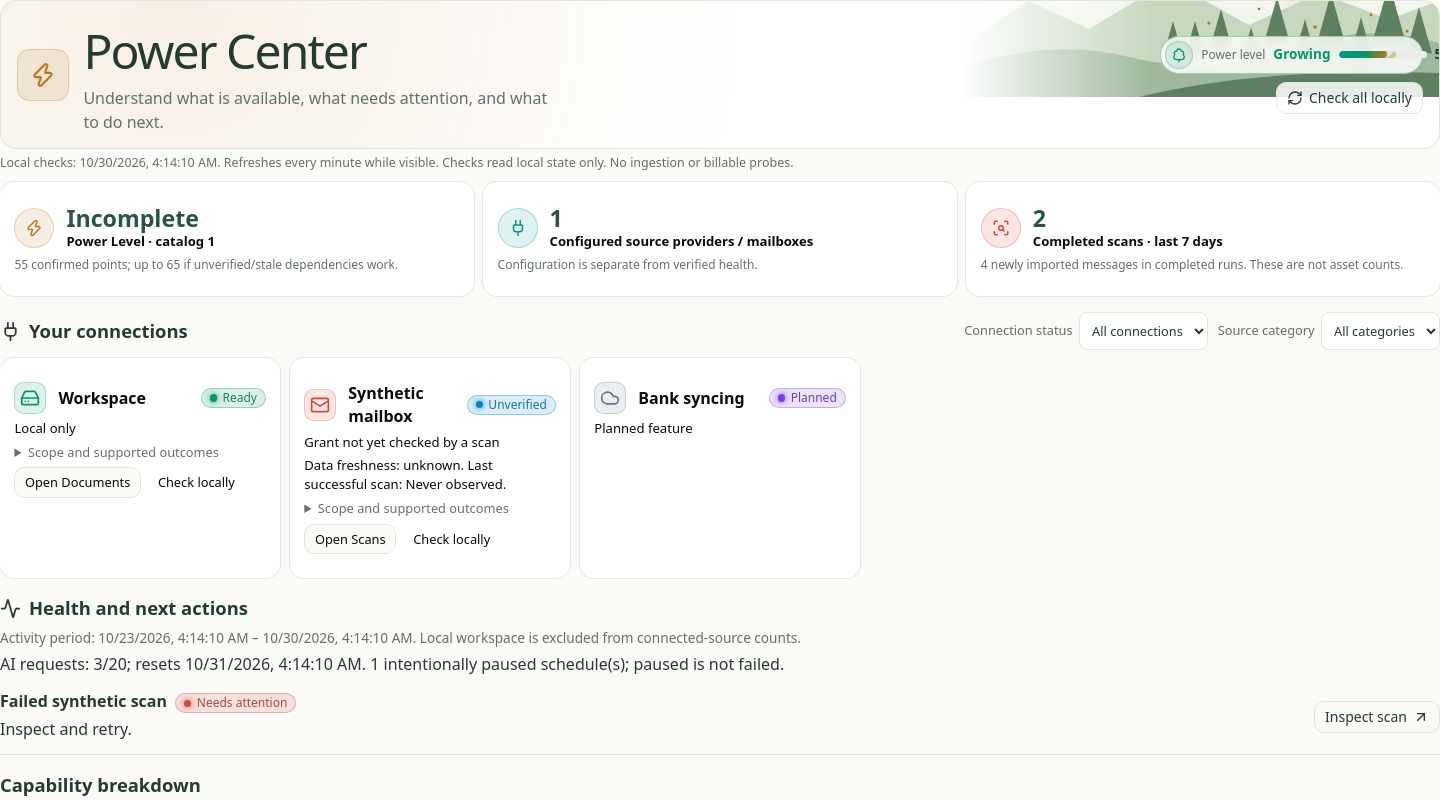
Scenario: filters source cards and refreshes observations without claiming provider verification
Expected: the text "Incomplete" is shown, [66,202,199,234]
Select "Email" in the dropdown labelled "Source category" at (1380, 331), box [1321,312,1439,350]
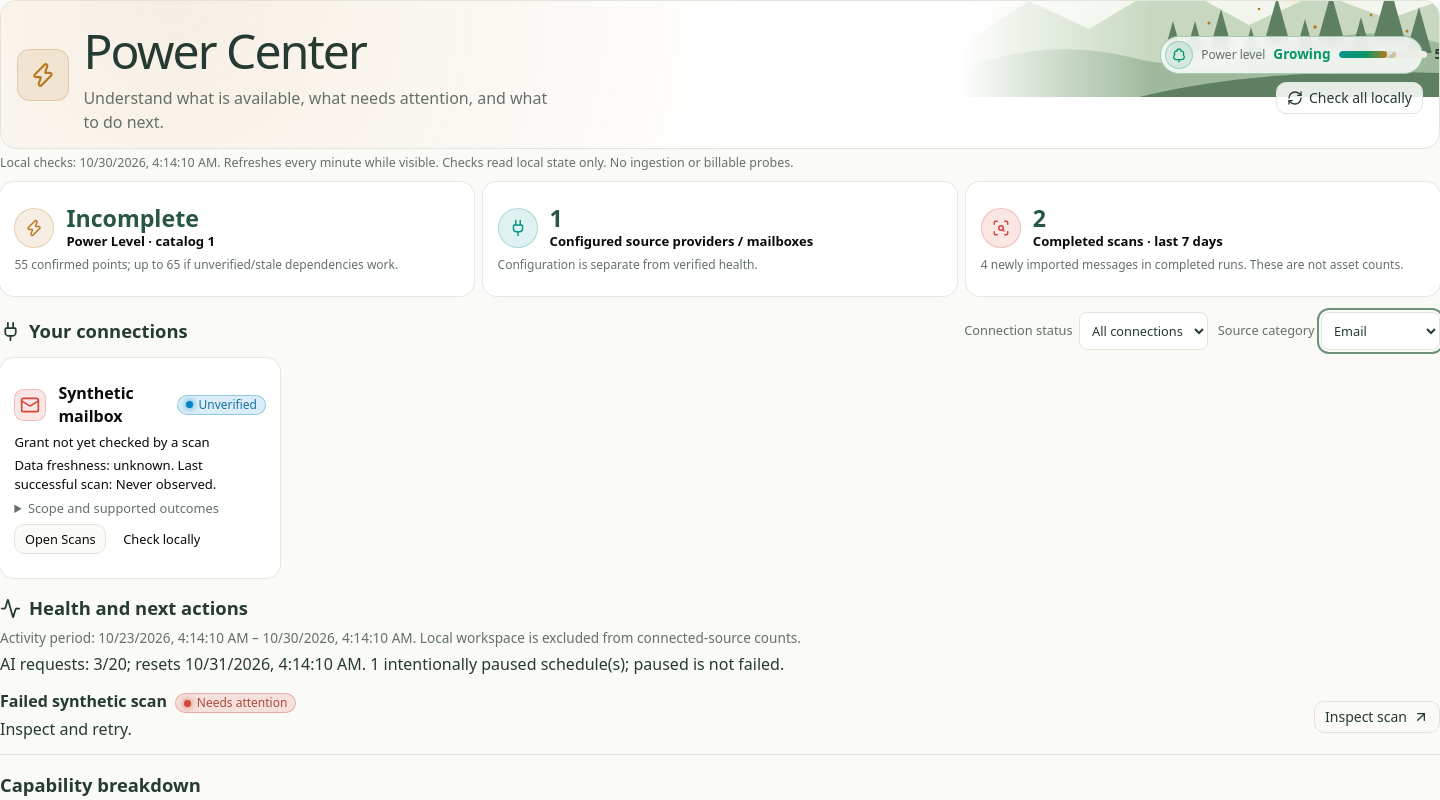
Expected: the heading "Workspace" is not shown
Expected: the heading "Synthetic mailbox" is shown, [58,382,134,427]
Click the button with aria-label "Check Synthetic mailbox locally".
click(162, 539)  # box [113,524,211,554]
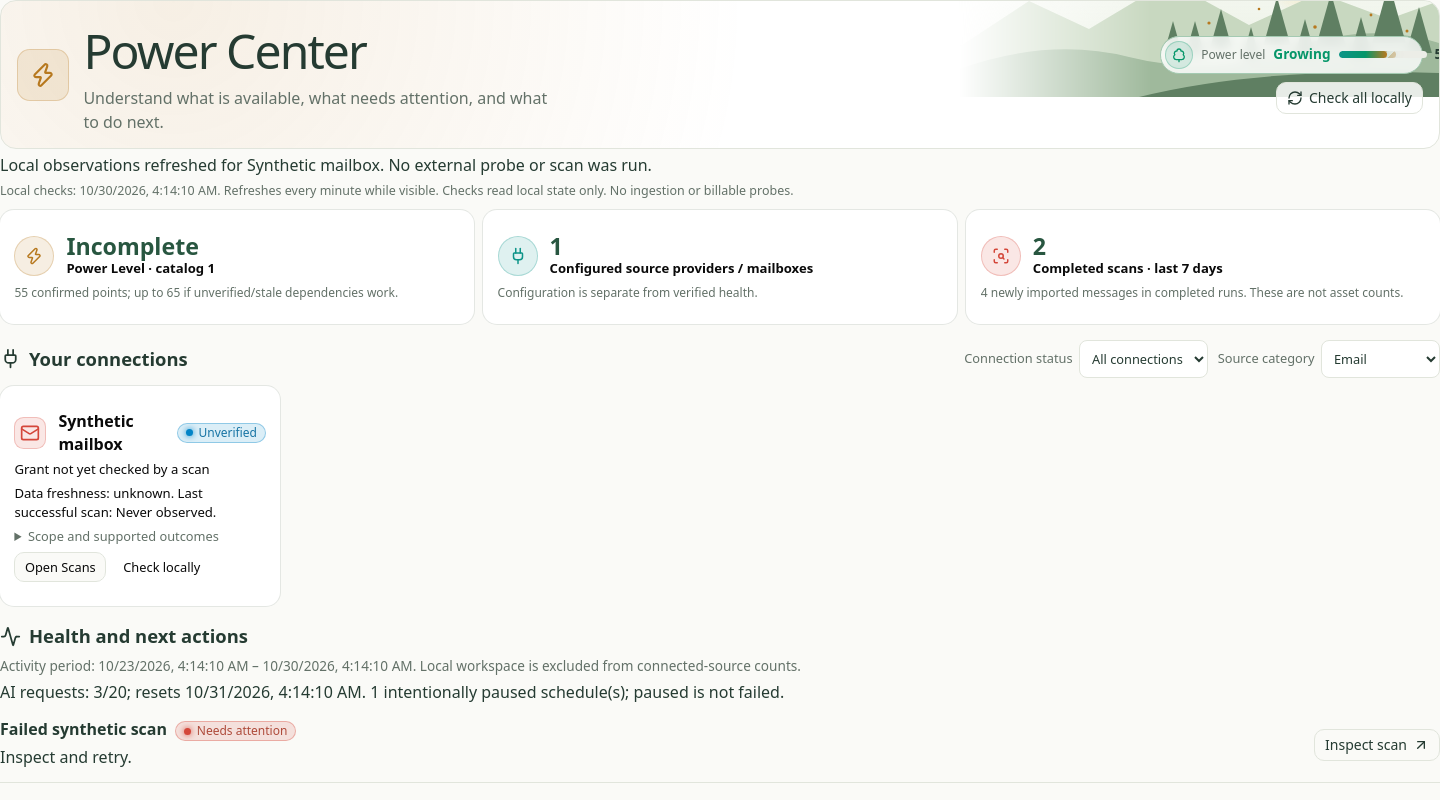
Result: the text "Local observations refreshed for Synthetic mailbox" is shown at [0,154,652,176]
Select "Not configured" in the dropdown labelled "Connection status" at (1144, 359), box [1079,340,1208,378]
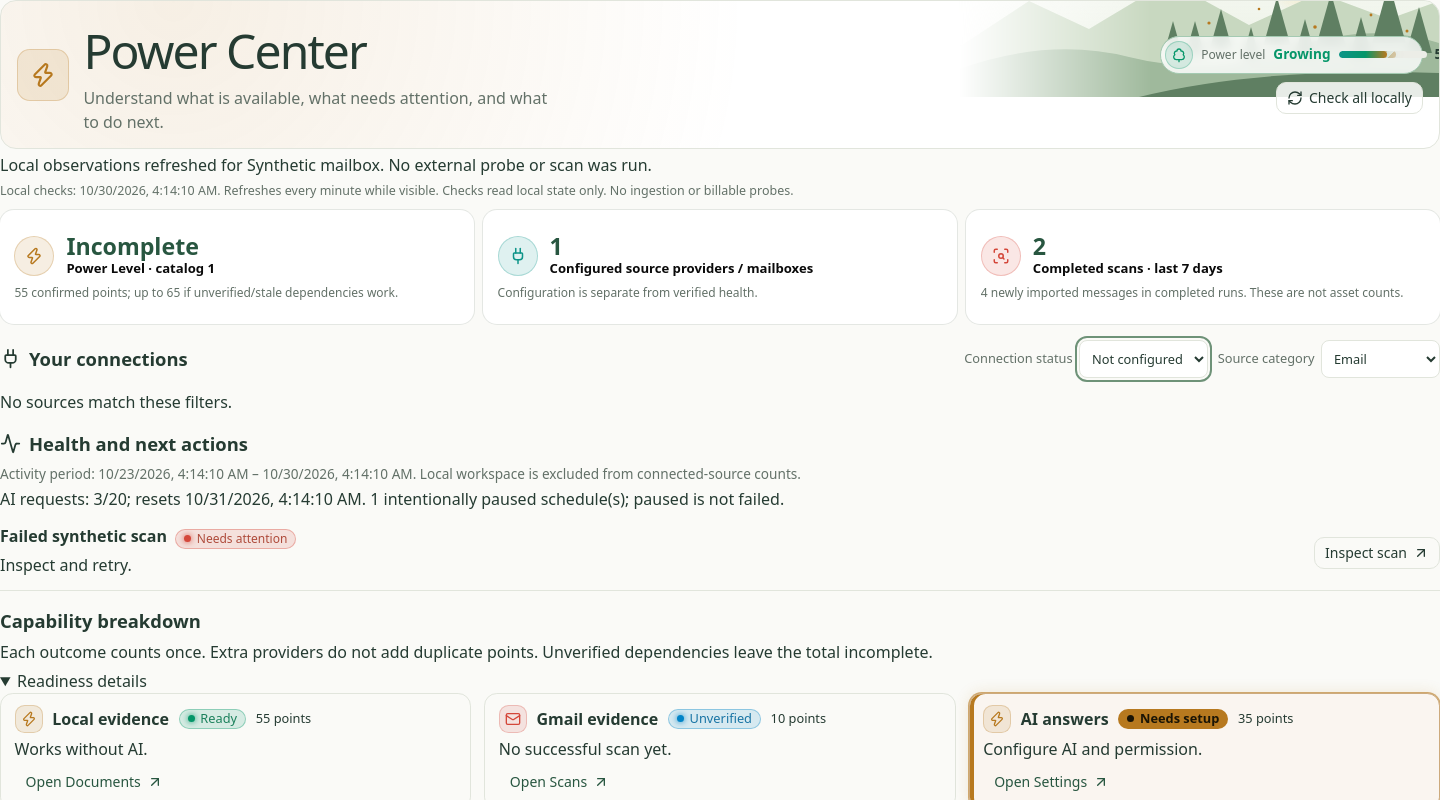
Result: the text "No sources match these filters." is shown at [0,391,232,413]
